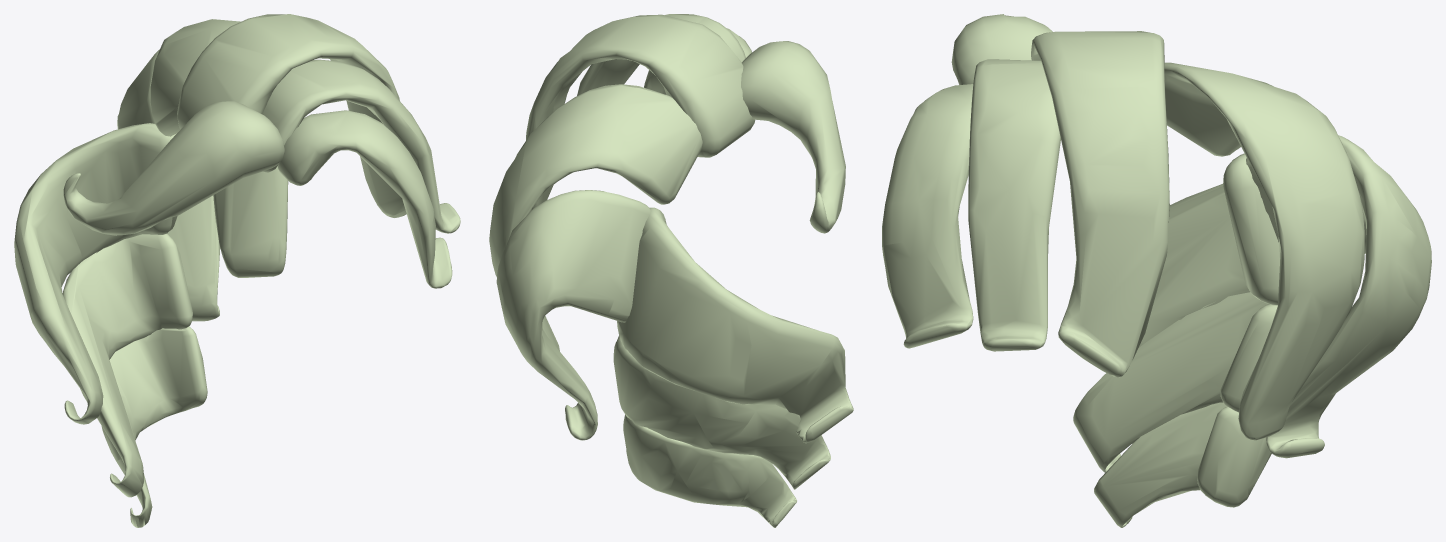
The model's file is Mane_10.fbx.
3 views of the same model, side by side, from view 1: azimuth 30°, elevation 25°; view 2: azimuth 150°, elevation 25°; view 3: azimuth 270°, elevation 25° (orthographic). The views are drawn at different scales.
Parts seen in each view (by area): view 1: Mane_10; view 2: Mane_10; view 3: Mane_10.
Boxes of the visible parts, left/top/right/bottom form: Mane_10: left=14, top=14, right=460, bottom=527; Mane_10: left=489, top=14, right=853, bottom=527; Mane_10: left=882, top=14, right=1431, bottom=527.
Size of the model in its own units: 1.7 by 2.16 by 1.91.
